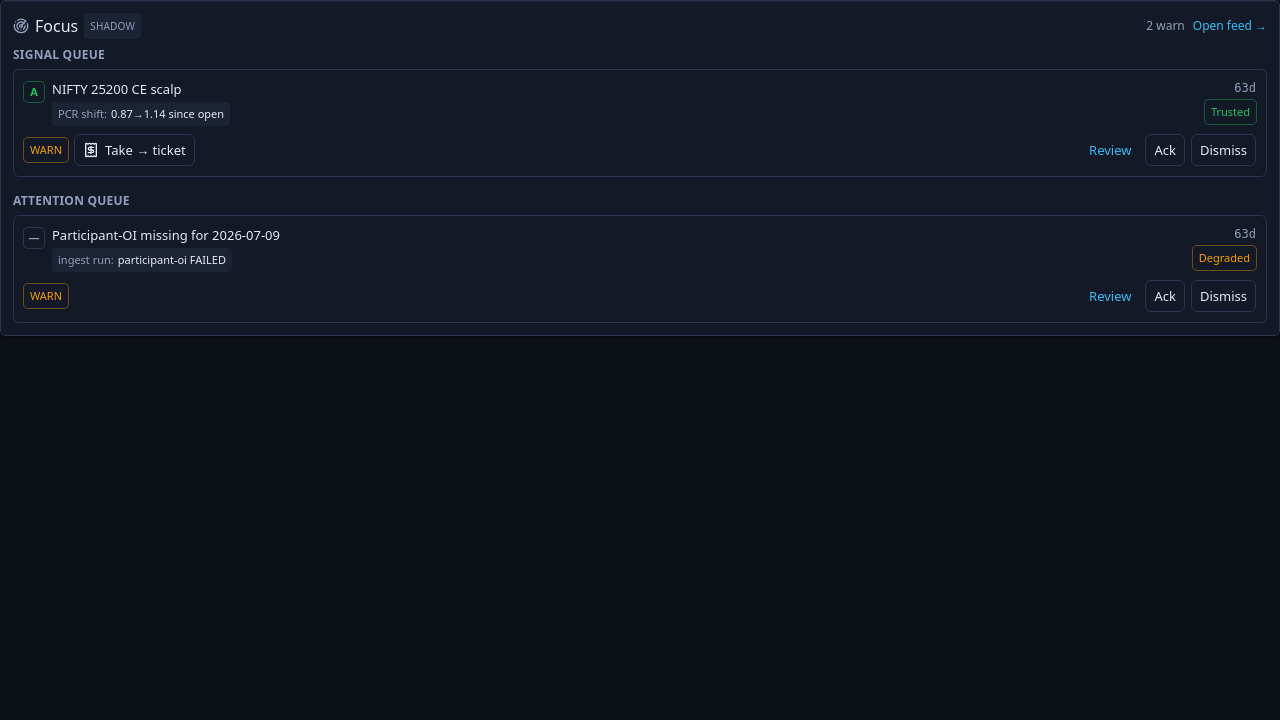
Test: FocusPanel › opens the explain drawer from Review
expect the button "NIFTY 25200 CE scalp" is shown: met, box [52, 80, 182, 98]
Click the button "Review" below "Trusted": (1110, 150) [1081, 134, 1139, 166]
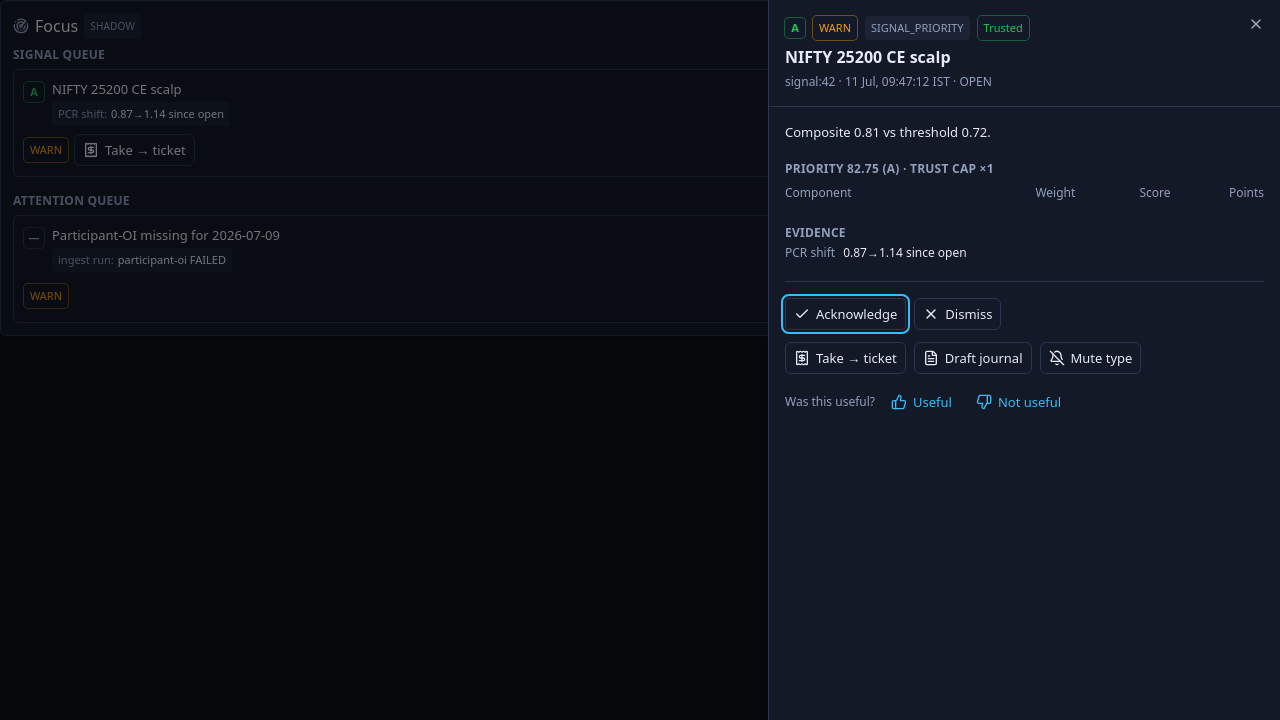
expect the text "Composite 0.81 vs threshold 0.72." is shown: met, box [785, 123, 991, 141]
